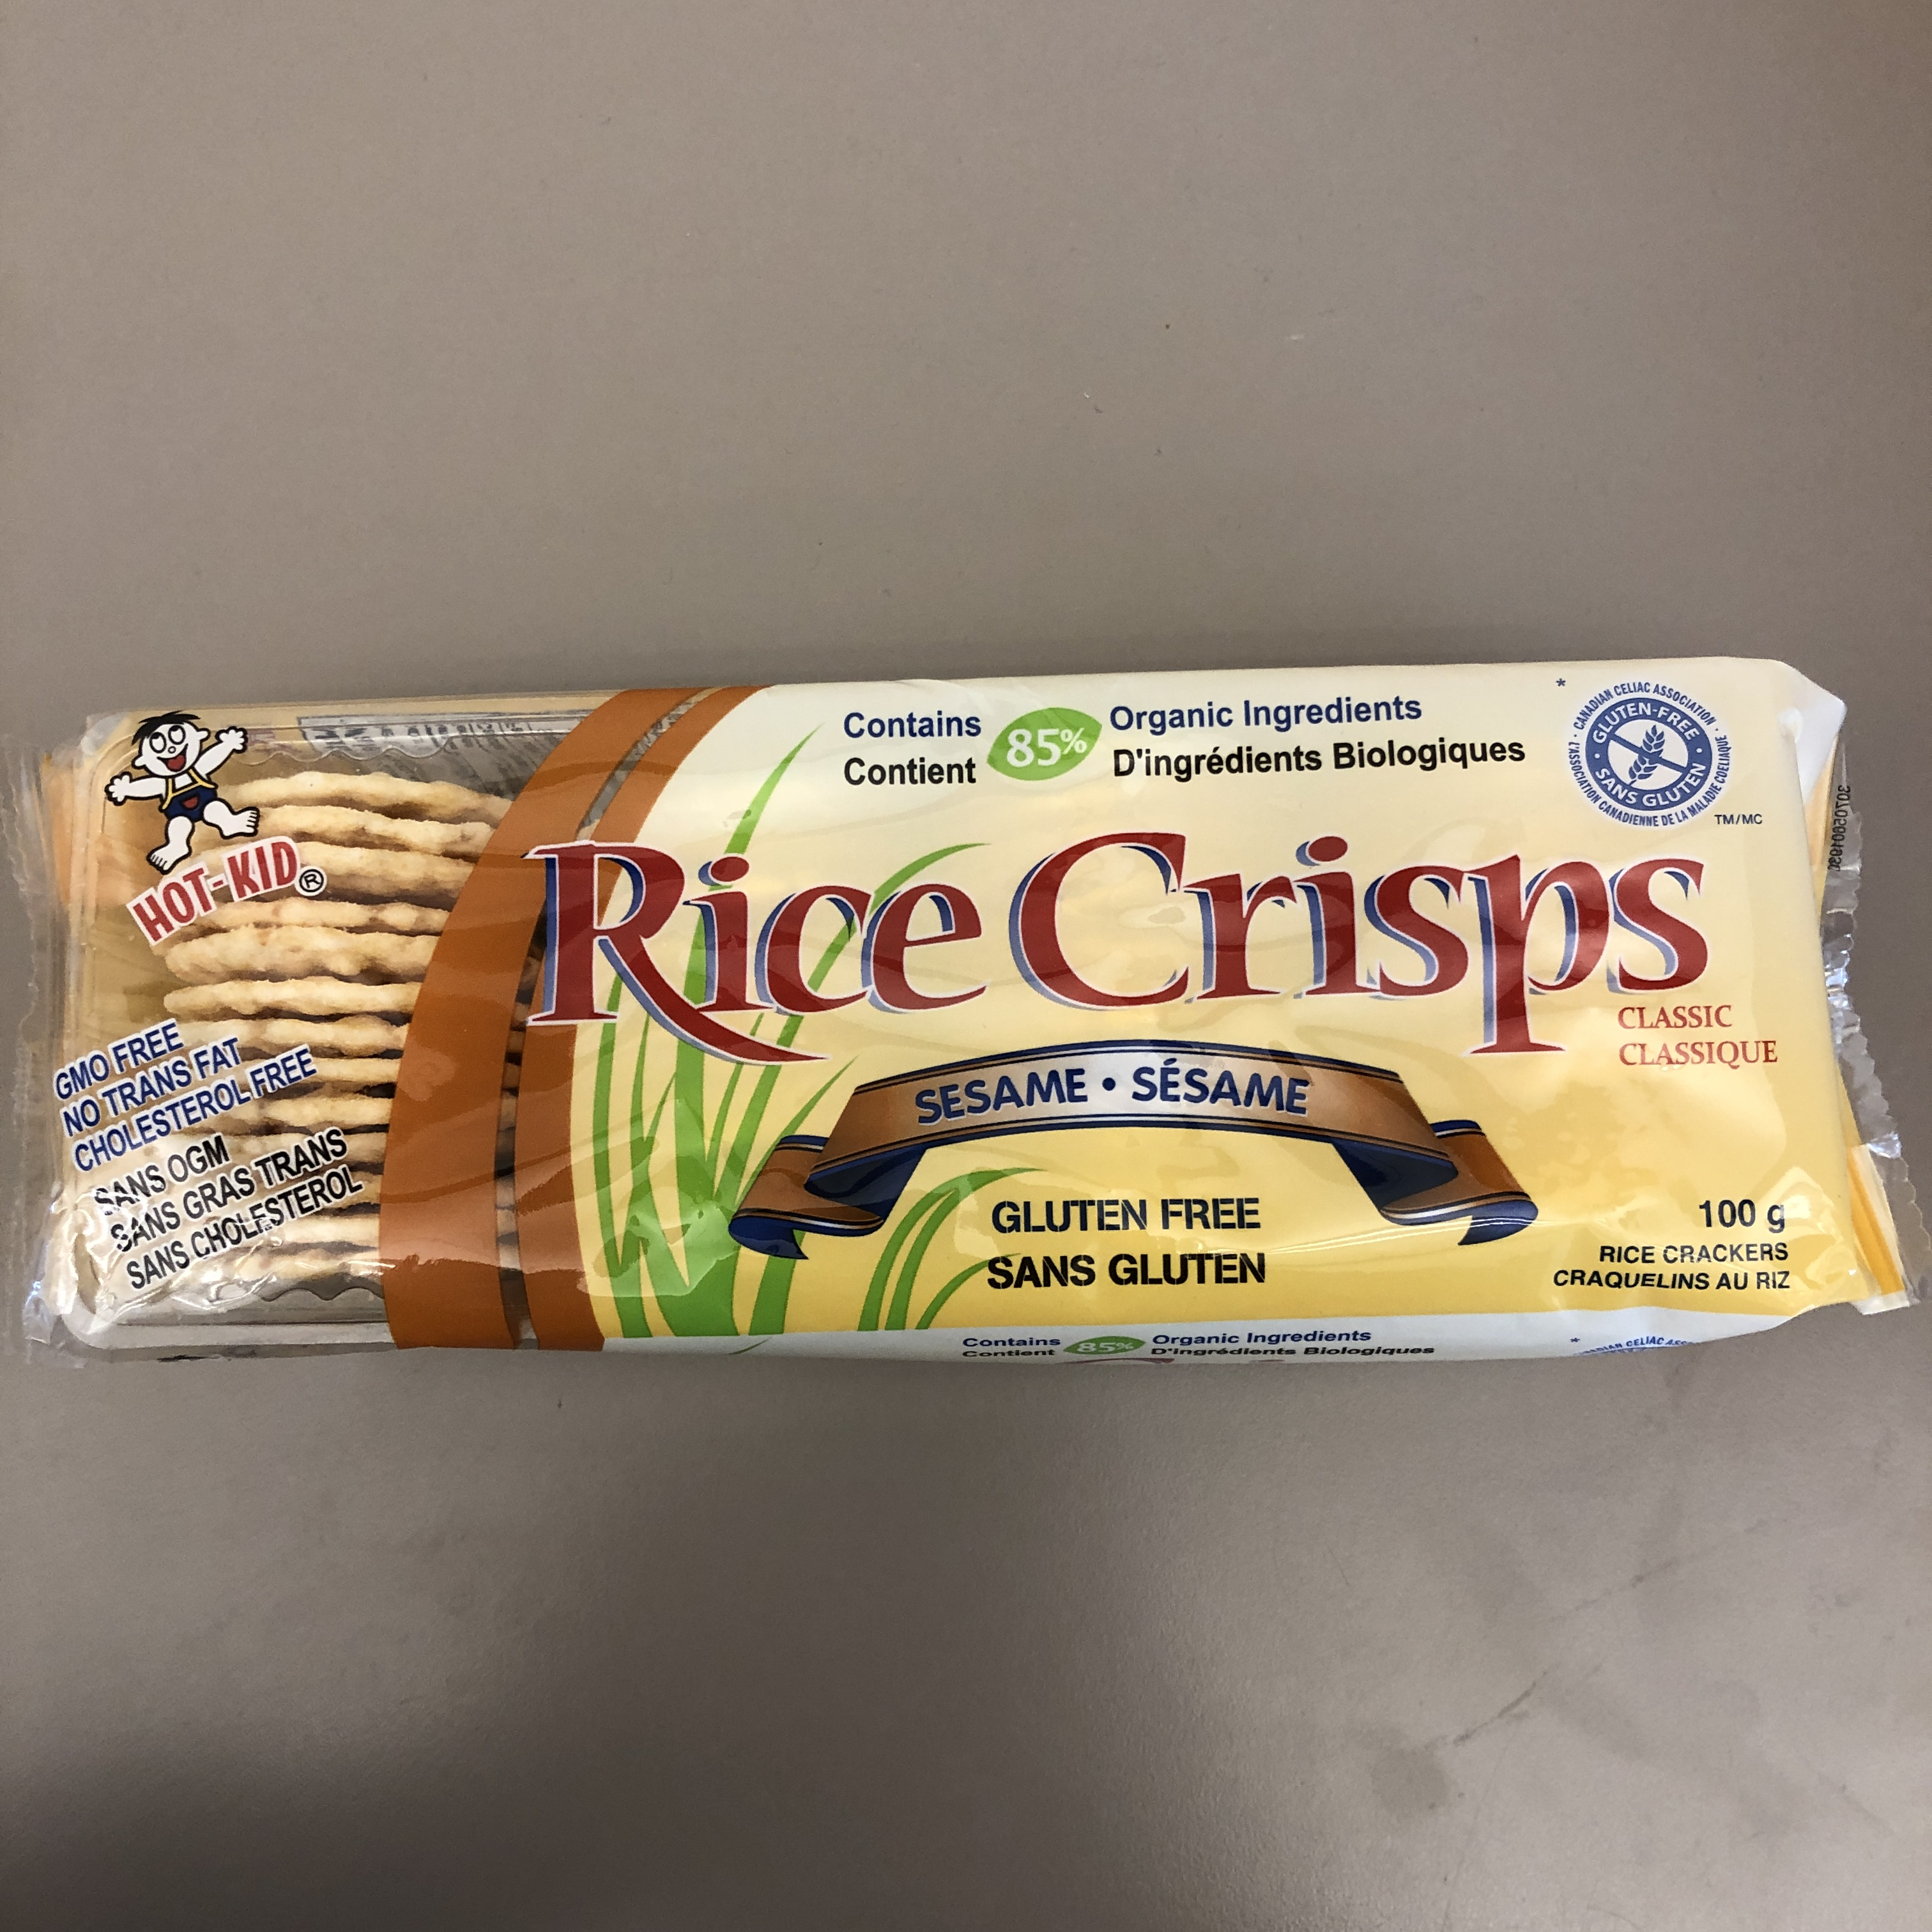hot_kid_rice_crisps_sesame: (664, 68, 1361, 1870)
